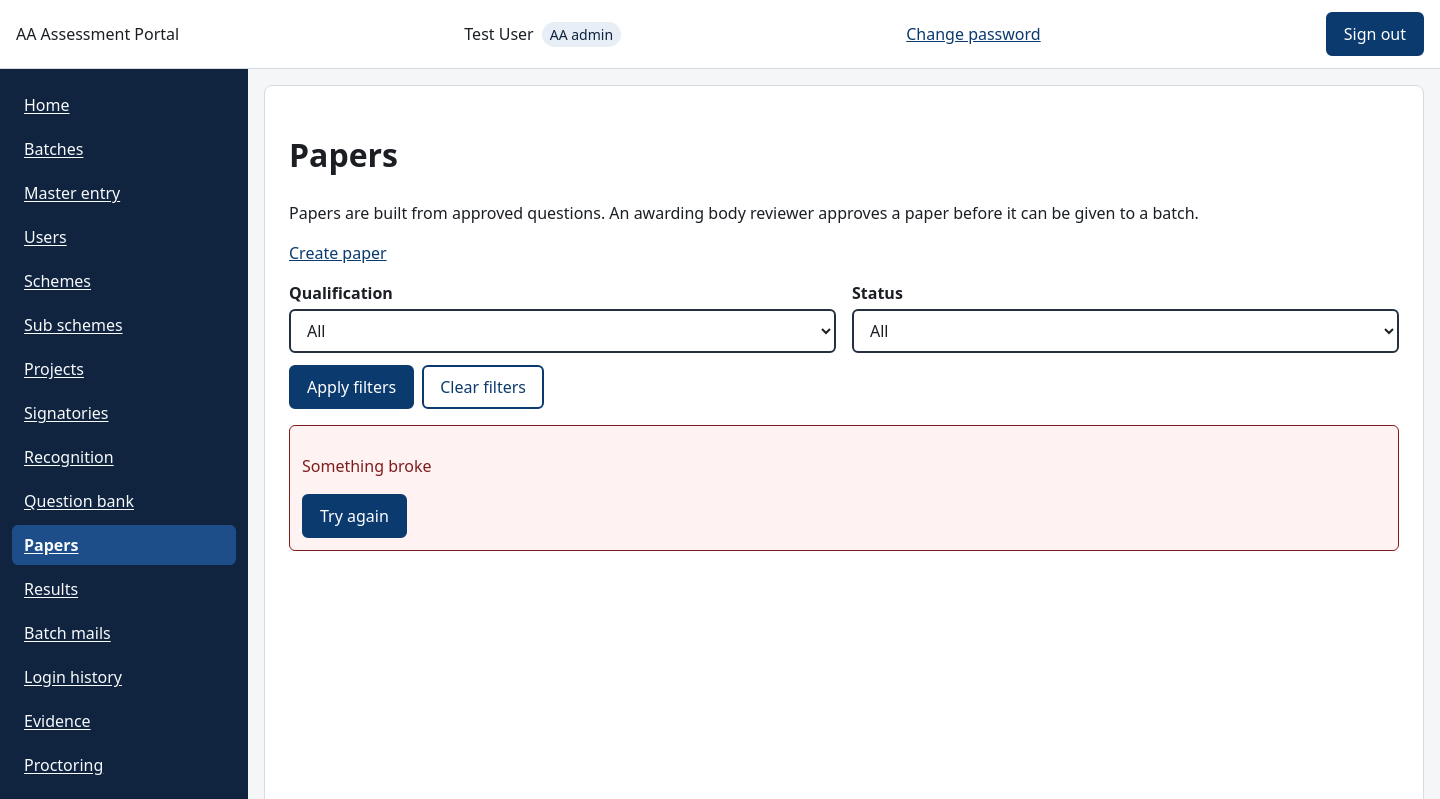
shows a list error with a retry
This screenshot has width=1440, height=799.
Expected: the message shows "Something broke", [302,455,432,477]
Click the button "Try again": (354, 516) [302,494,407,538]
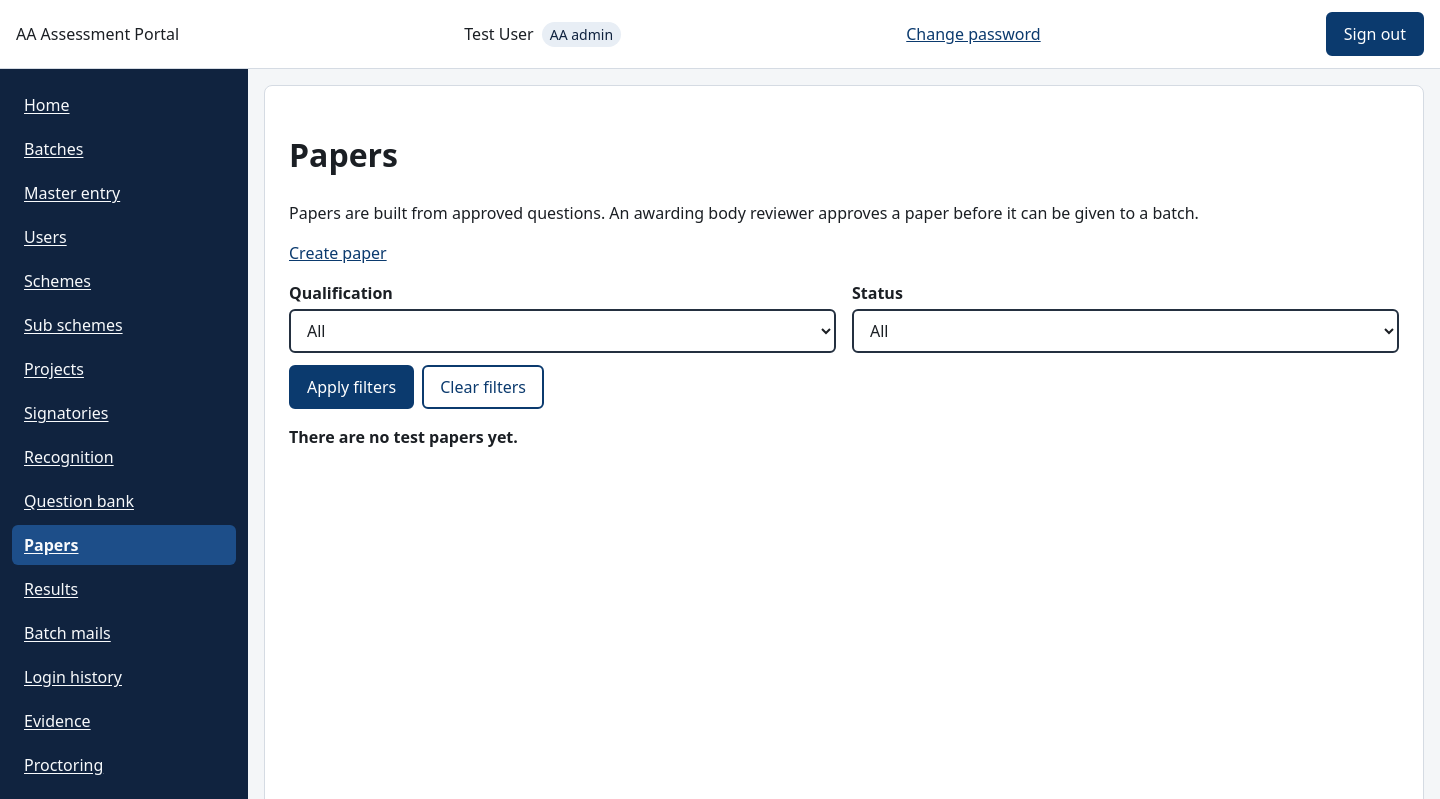
Result: the text "There are no test papers yet." is shown at [289,426,518,448]
